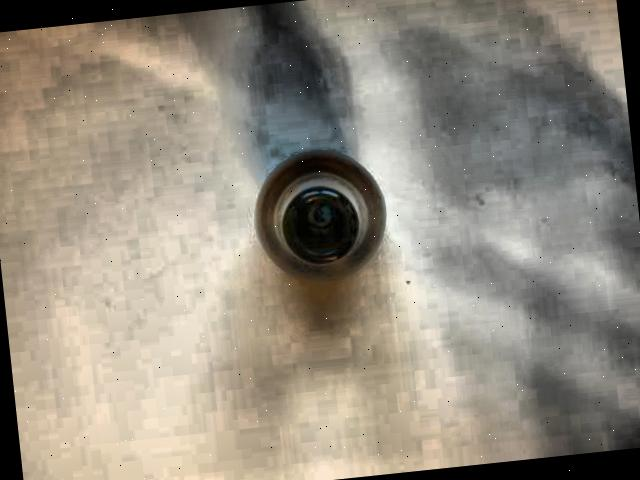Bottles: (215, 129, 424, 313)
